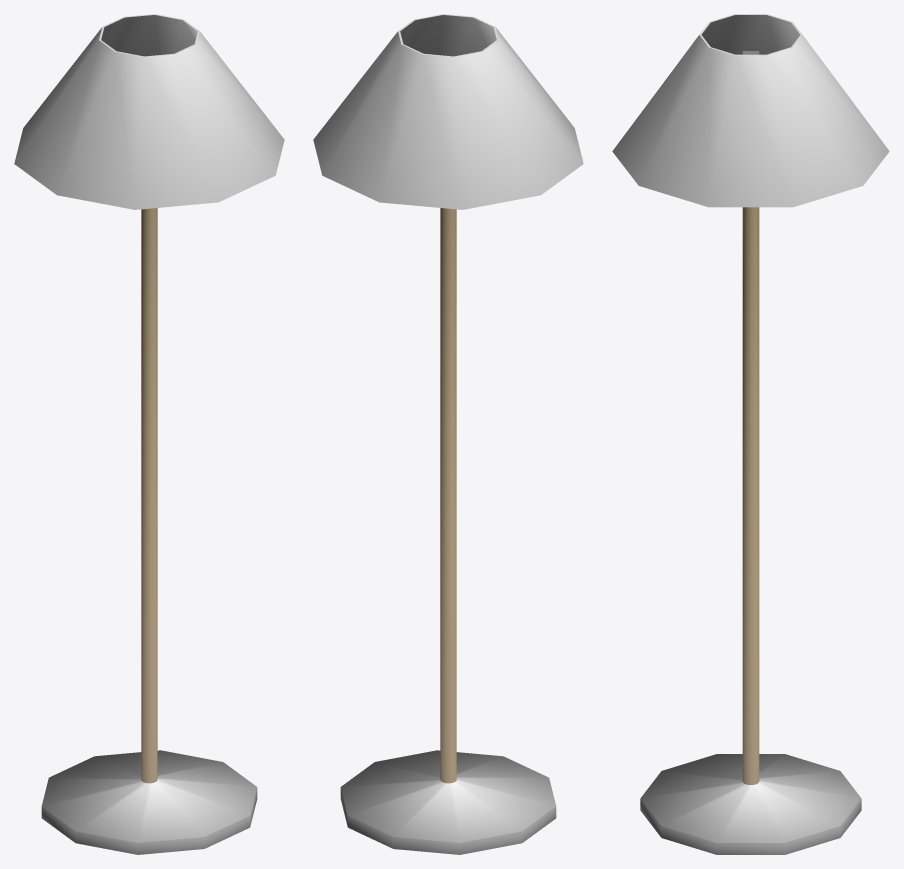
File: floorlamp.glb
The picture shows the model from 3 angles, left to right: view 1: azimuth 30°, elevation 25°; view 2: azimuth 150°, elevation 25°; view 3: azimuth 270°, elevation 25°; orthographic projection.
Parts seen in each view (by area): view 1: FloorLamp; view 2: FloorLamp; view 3: FloorLamp.
Boxes of the visible parts, left/top/right/bottom form: FloorLamp: left=14, top=14, right=284, bottom=854; FloorLamp: left=313, top=14, right=583, bottom=854; FloorLamp: left=612, top=14, right=889, bottom=854.
Bounding box in the file's own units: 0.4778 × 1.55 × 0.5023.
1 material, 1 textured.
